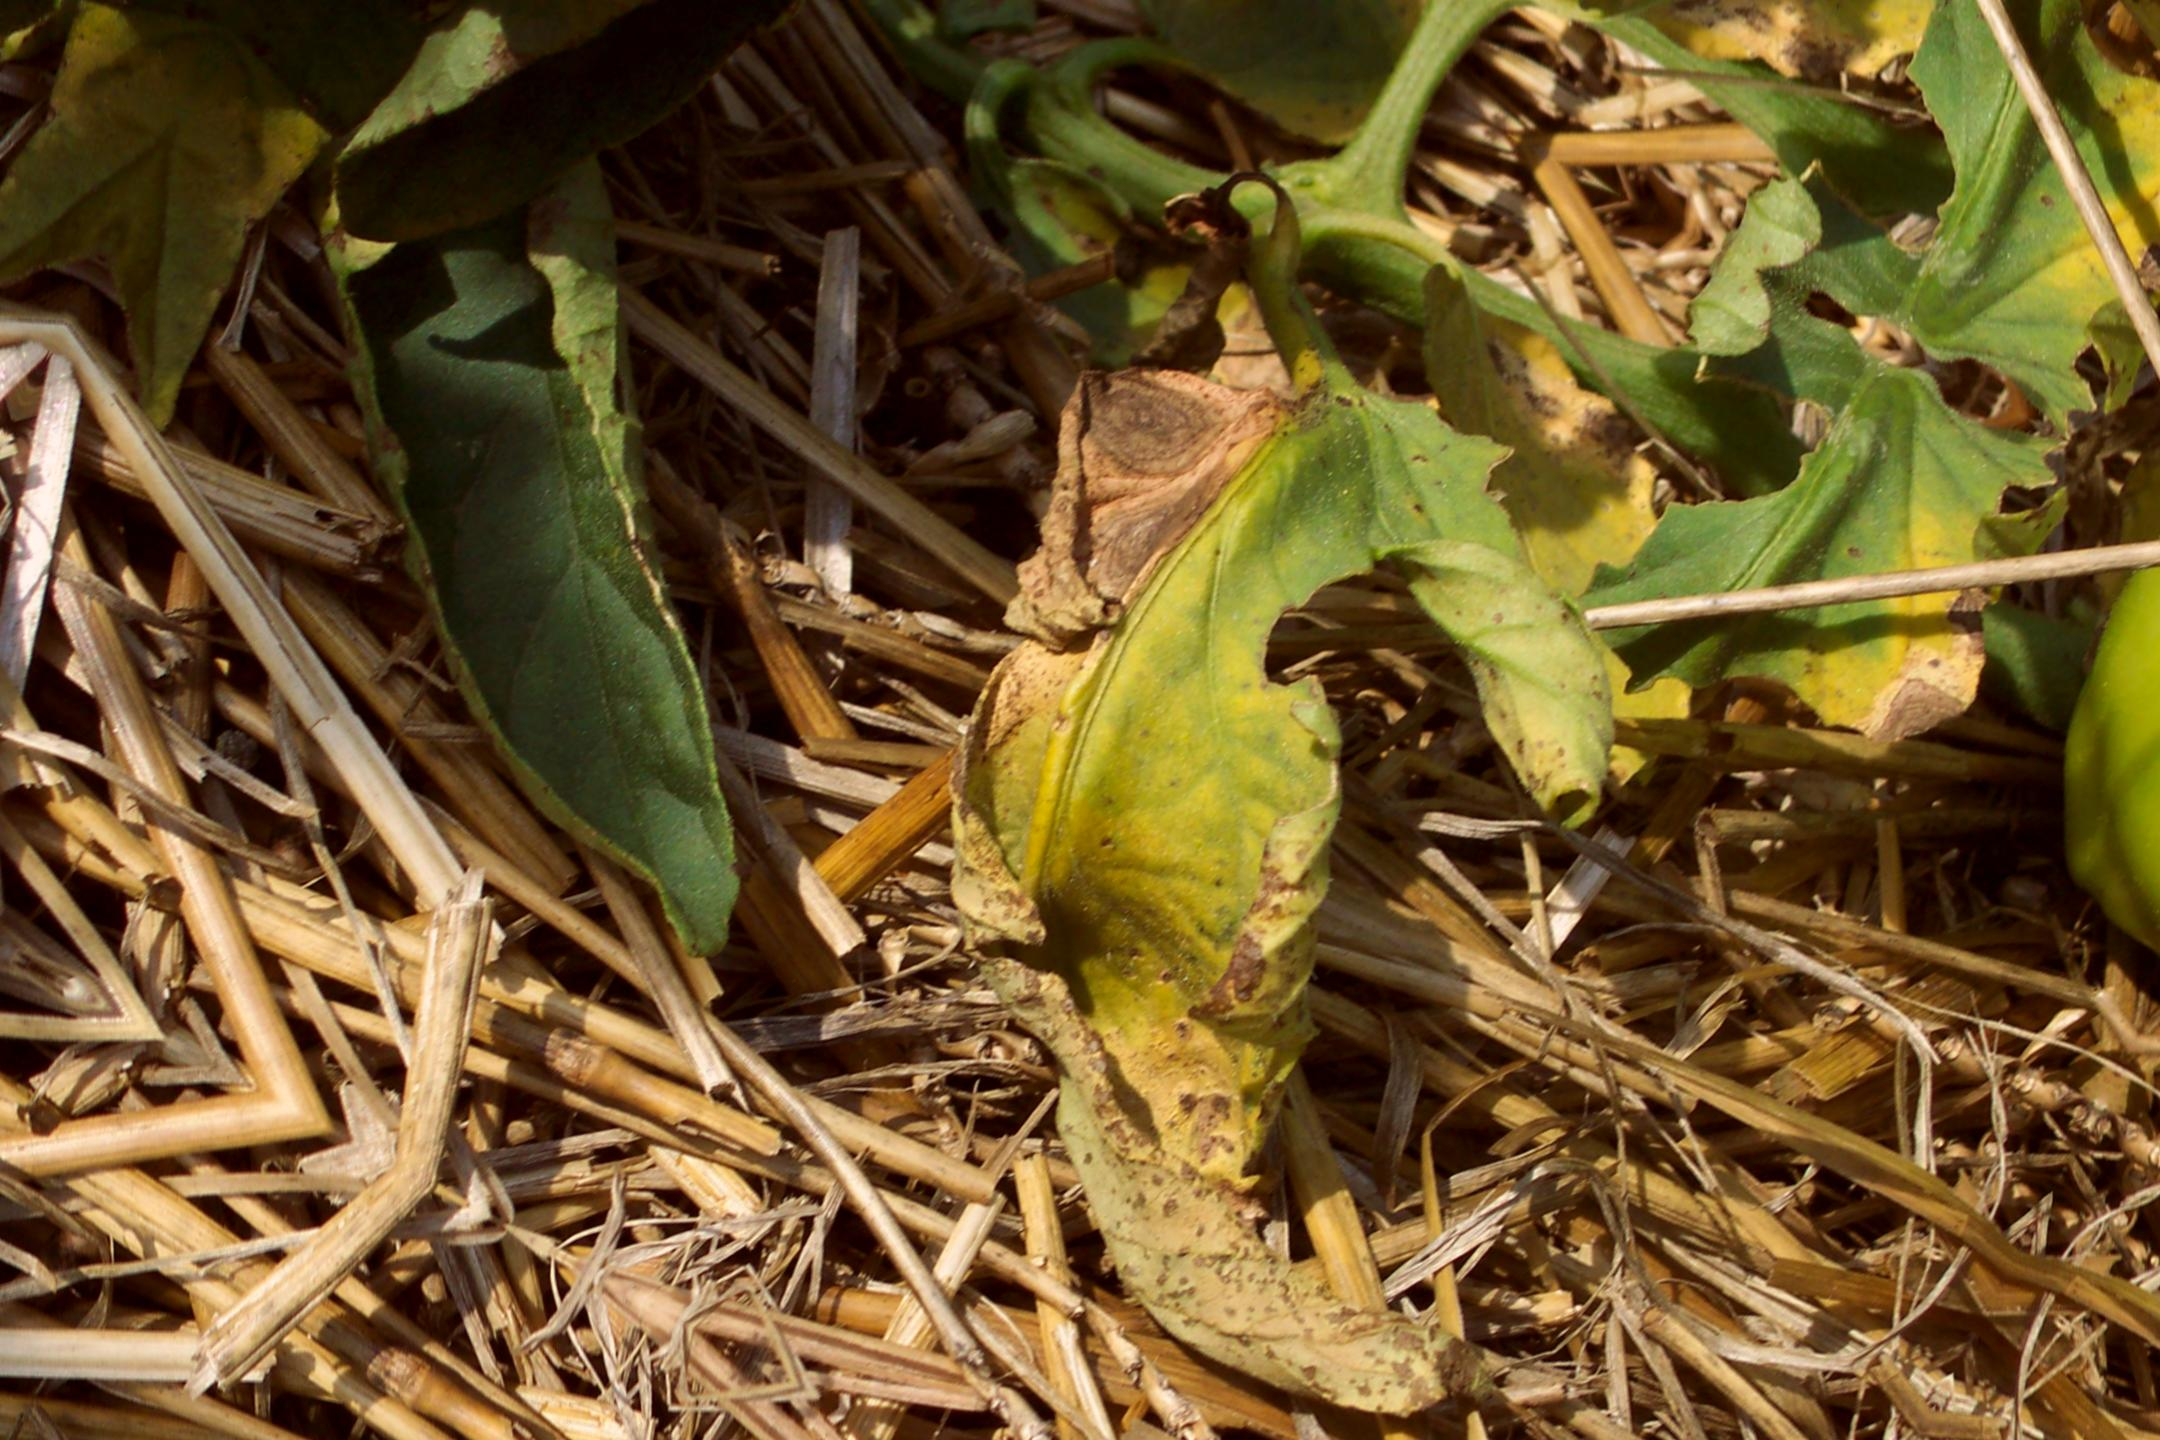Tomato Early blight leaf: (671, 184, 1881, 1440)
